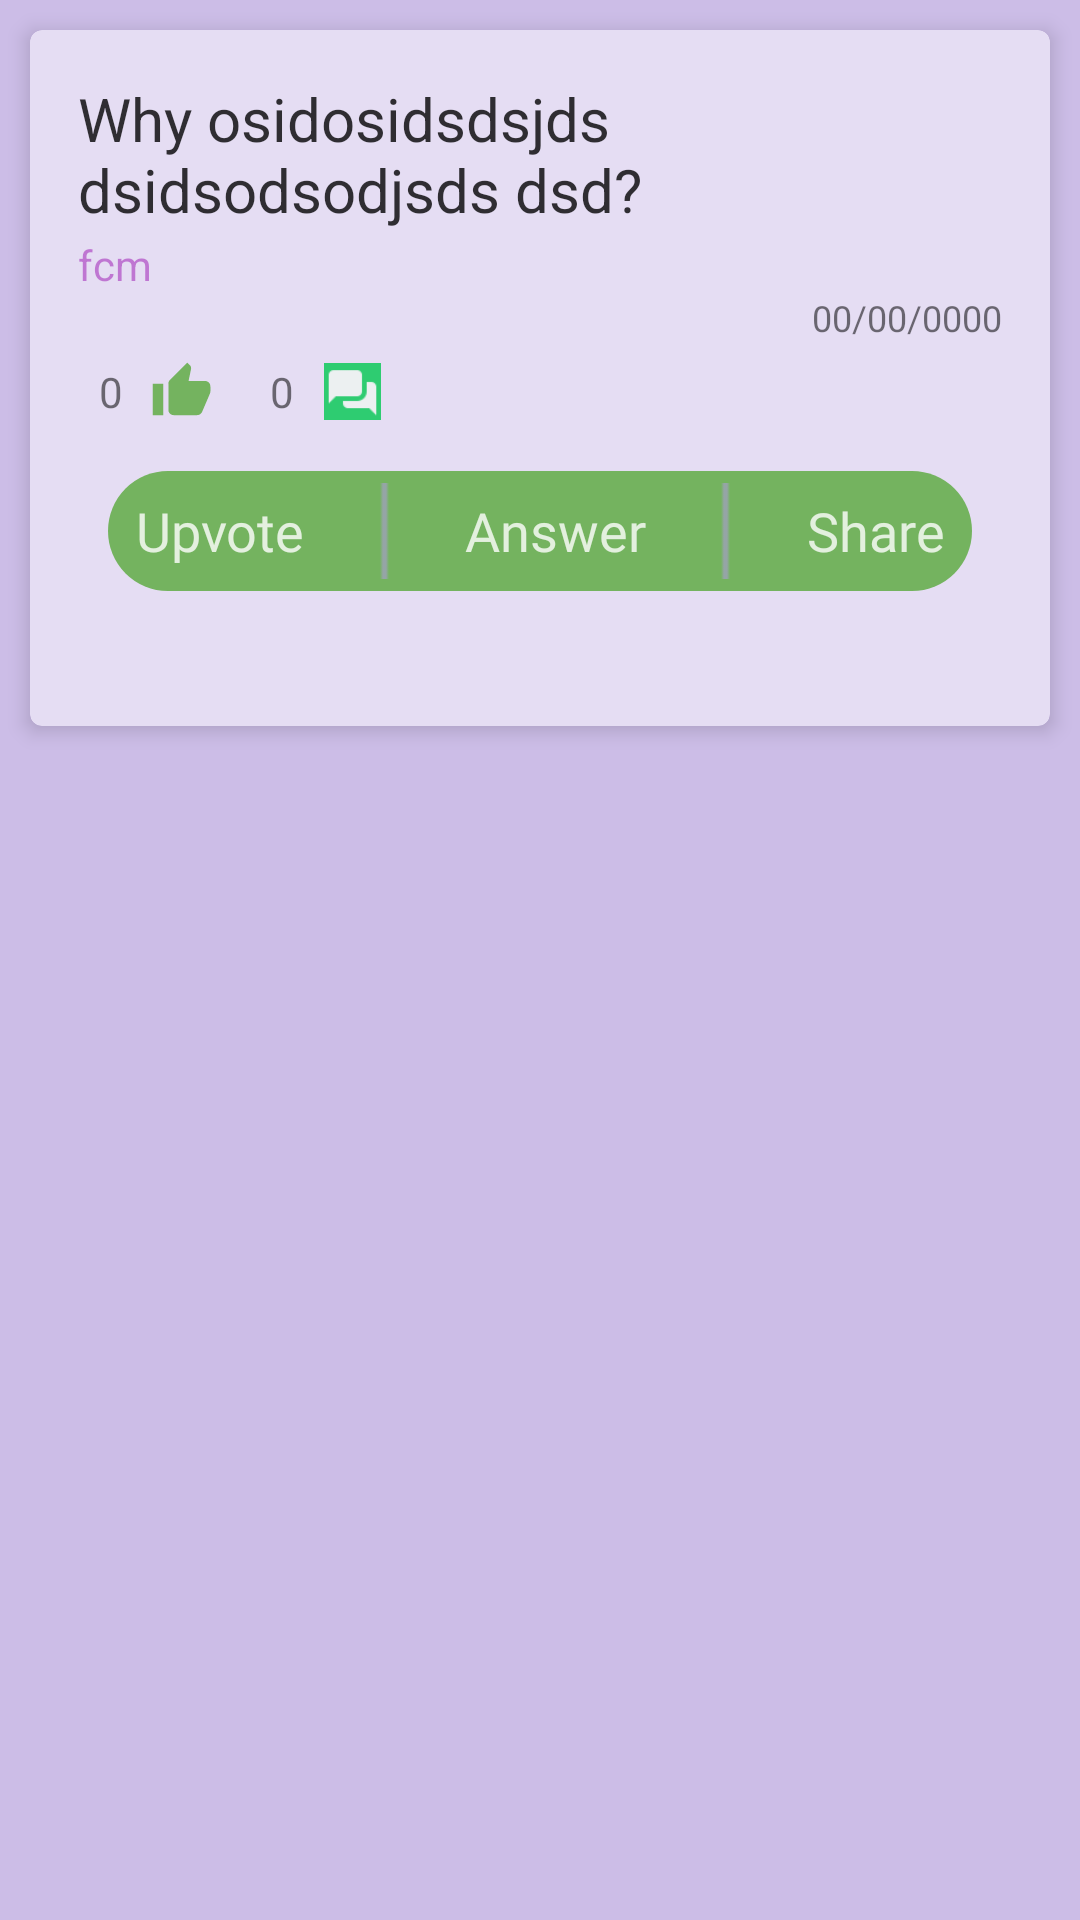

Where to tap for icons on this 1080w x 1920h app screen, as (x=x, y=y):
comment: (x=352, y=391)
thumb up: (x=181, y=389)
